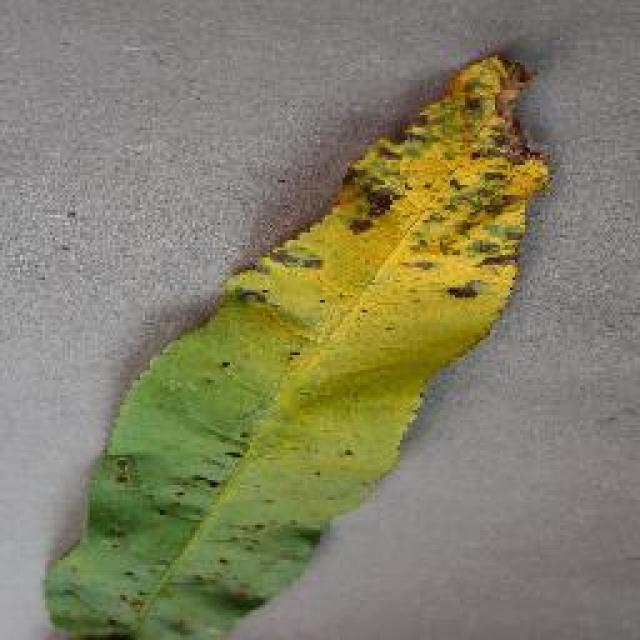Peach_Bacterial_Spot: (236, 110, 556, 337)
